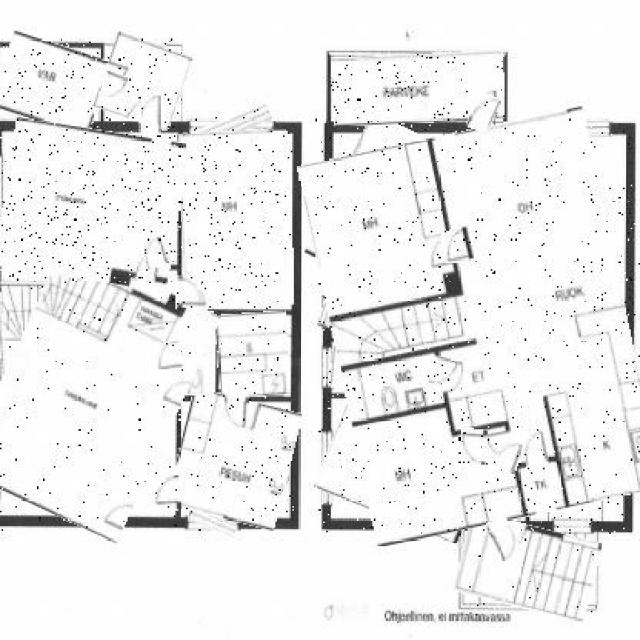door: (469, 94, 497, 134), (491, 517, 518, 558), (442, 228, 472, 263), (495, 438, 523, 474), (460, 429, 488, 465), (156, 477, 182, 511), (176, 275, 202, 308), (154, 340, 183, 369), (143, 238, 168, 270), (225, 395, 249, 428), (430, 357, 456, 386), (100, 72, 126, 100), (140, 96, 160, 130)
window: (190, 109, 272, 143), (517, 120, 609, 135), (320, 163, 338, 237), (188, 512, 237, 532), (322, 430, 332, 504), (0, 291, 5, 380), (320, 298, 334, 328), (323, 348, 332, 384)
zone: (315, 118, 640, 534), (0, 255, 197, 531), (0, 123, 182, 283), (318, 123, 482, 300), (323, 386, 494, 532), (180, 131, 292, 309), (172, 394, 296, 526), (456, 518, 598, 616), (330, 54, 504, 124), (0, 37, 105, 129), (99, 37, 186, 126), (217, 312, 291, 398), (332, 338, 432, 392), (180, 312, 215, 396), (480, 466, 529, 522)
